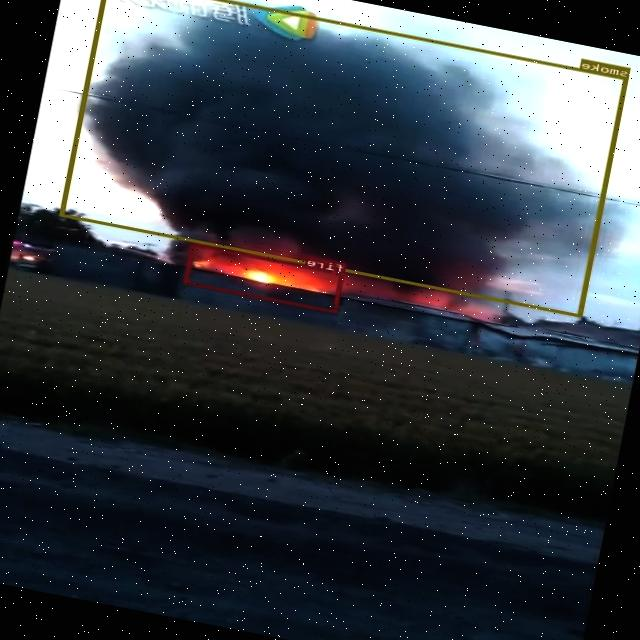fire: (184, 243, 346, 313)
smoke: (60, 0, 629, 317)
